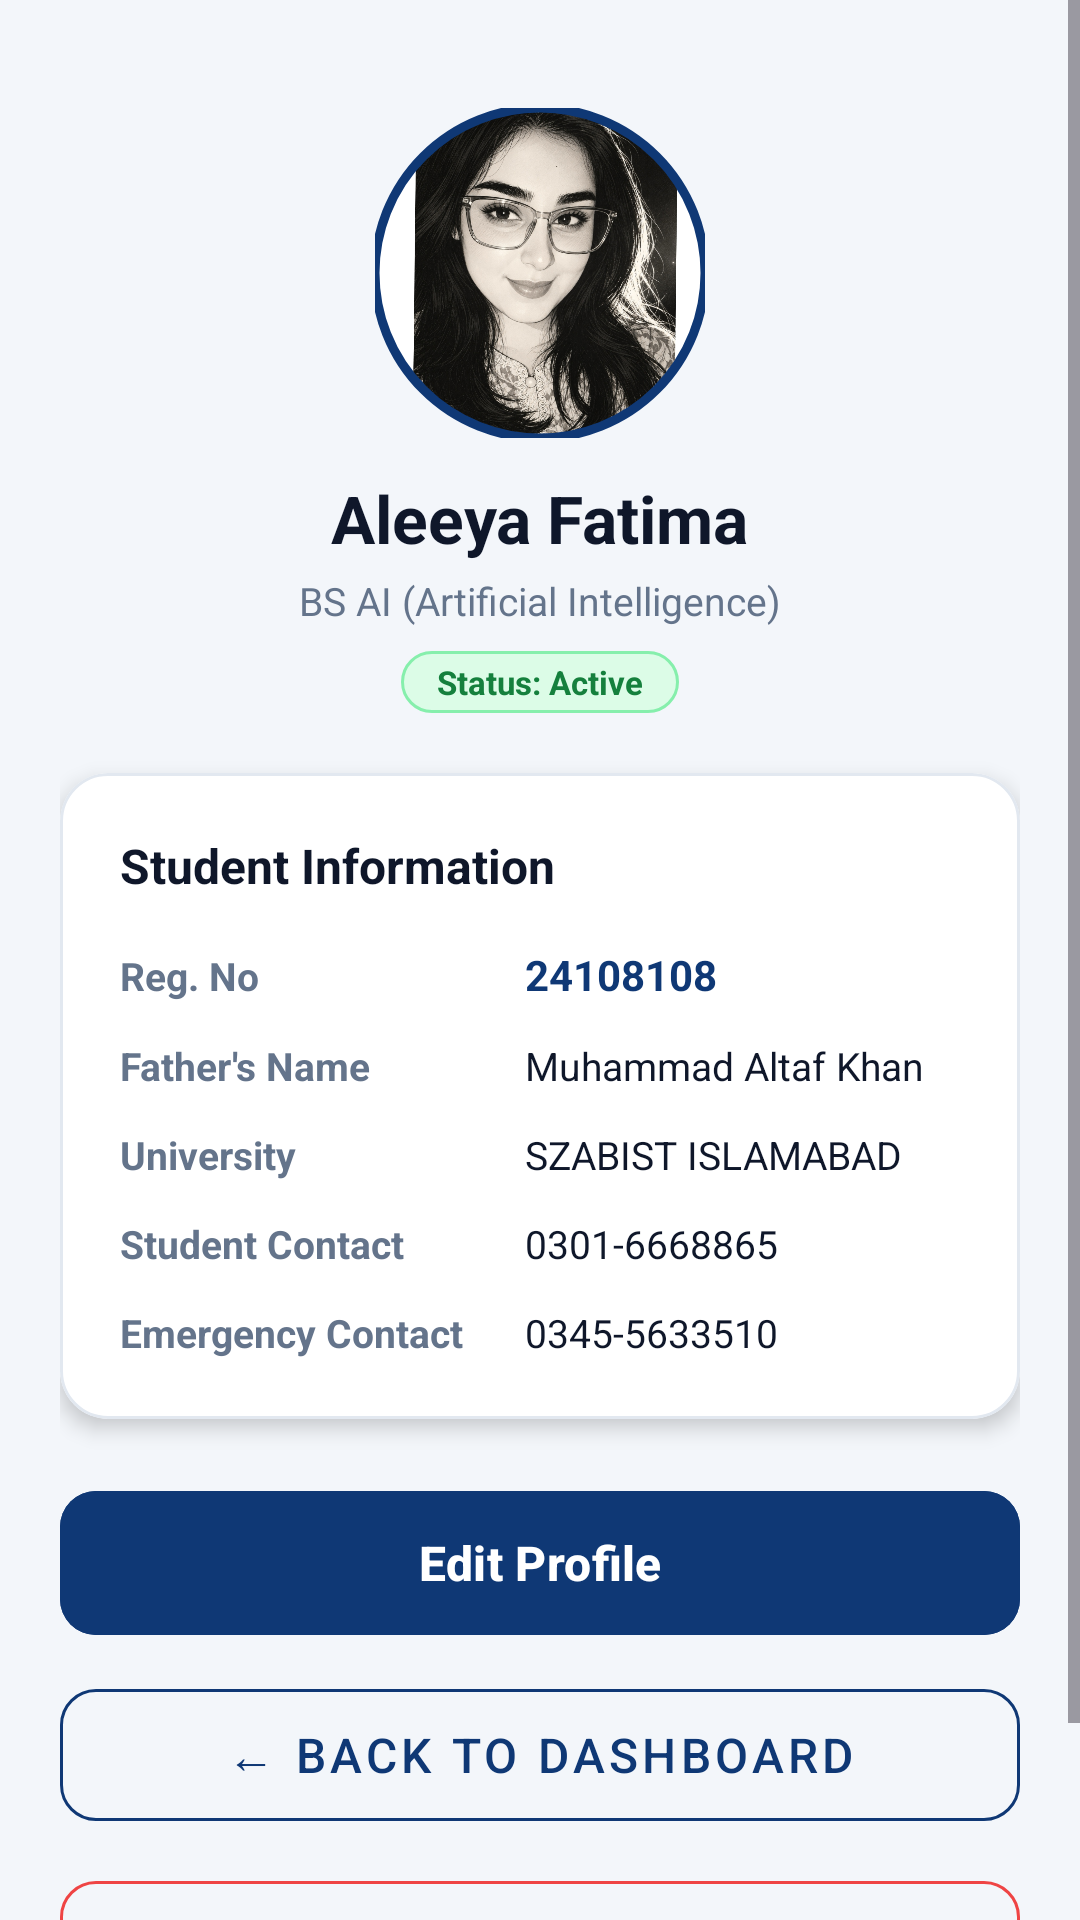

Screen size 1080×1920. Icon name, then its center in pixels as [x,y]:
Student Photo: [540,273]
